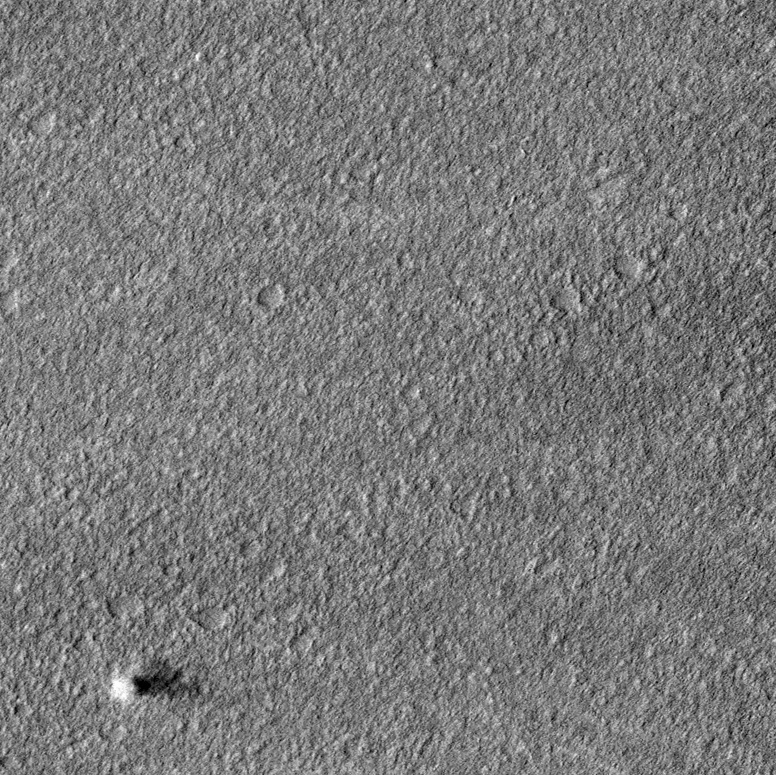dust_devil: (107, 658, 208, 705)
